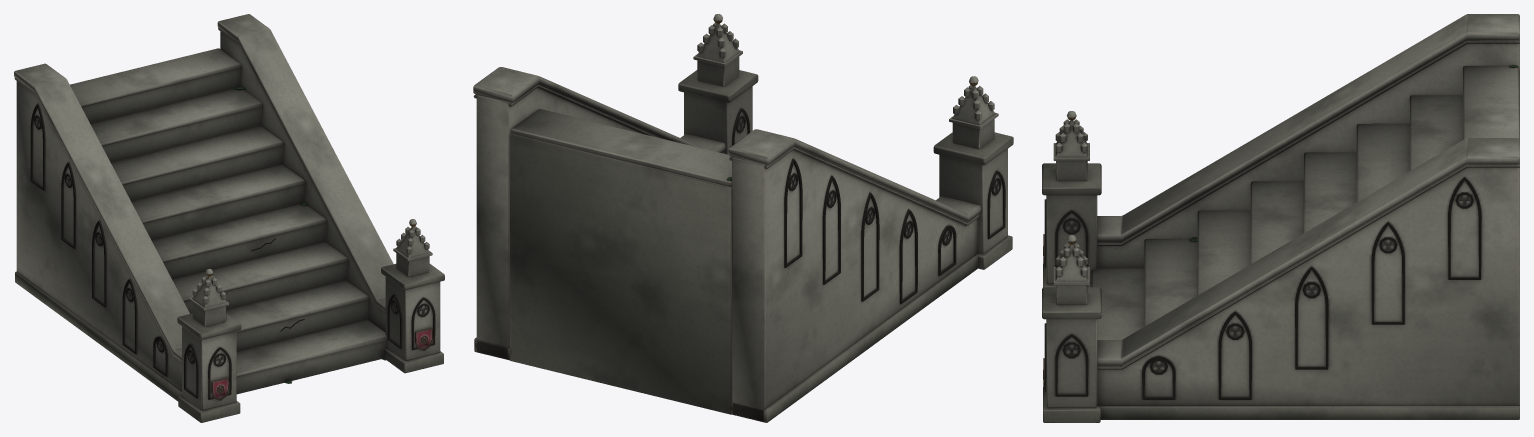
The model's file is StairStone.fbx.
The picture shows the model from 3 angles, left to right: view 1: azimuth 30°, elevation 25°; view 2: azimuth 150°, elevation 25°; view 3: azimuth 270°, elevation 25°; orthographic projection. The views are drawn at different scales.
Visible parts, largest first — view 1: StairStone; view 2: StairStone; view 3: StairStone.
Part boxes in pixels (x1,y1,x2,y2): StairStone: [14, 14, 444, 422]; StairStone: [473, 14, 1013, 422]; StairStone: [1042, 14, 1519, 422].
Bounding box in the file's own units: 830 × 689 × 1125.
